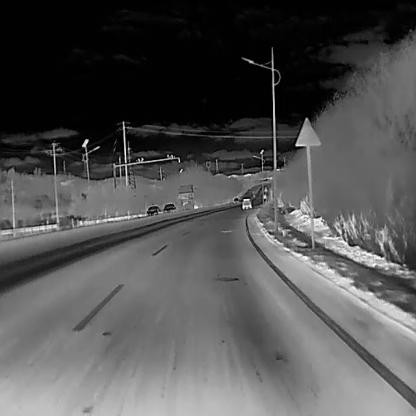car: (163, 201, 175, 213), (147, 204, 159, 215), (240, 197, 251, 208)
